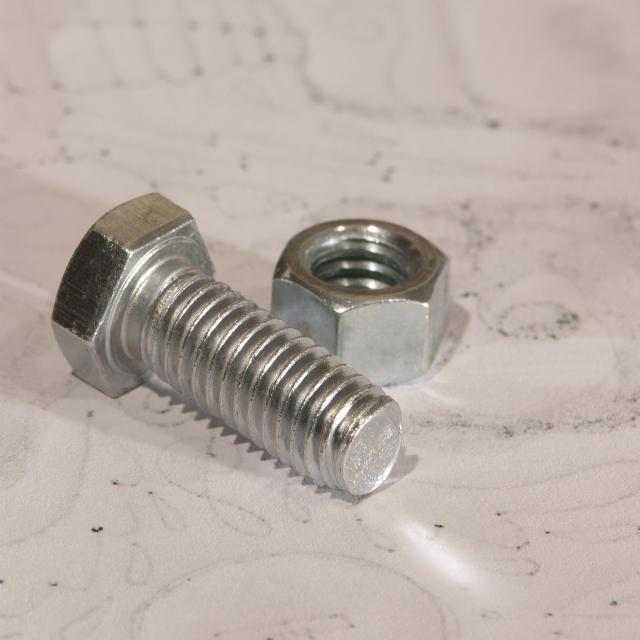bolt: (56, 191, 400, 491)
nut: (270, 220, 452, 360)
